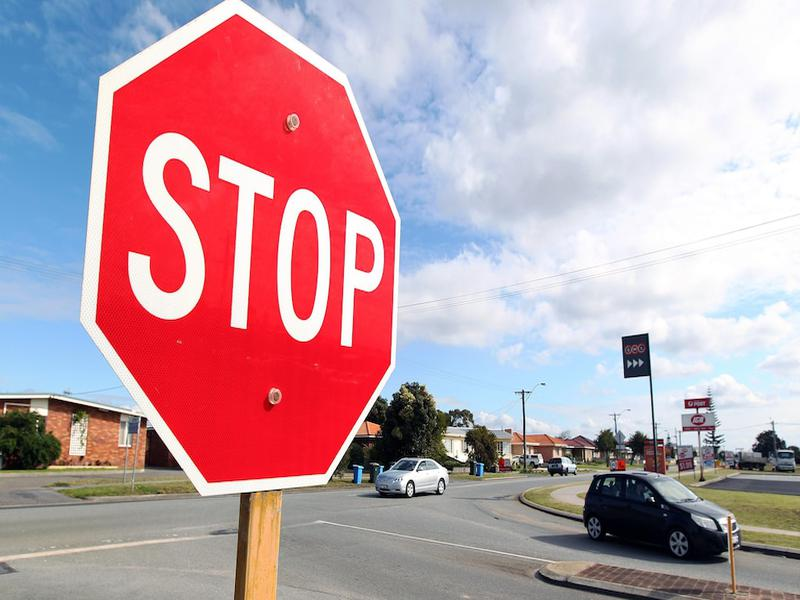stop: (83, 1, 410, 502)
